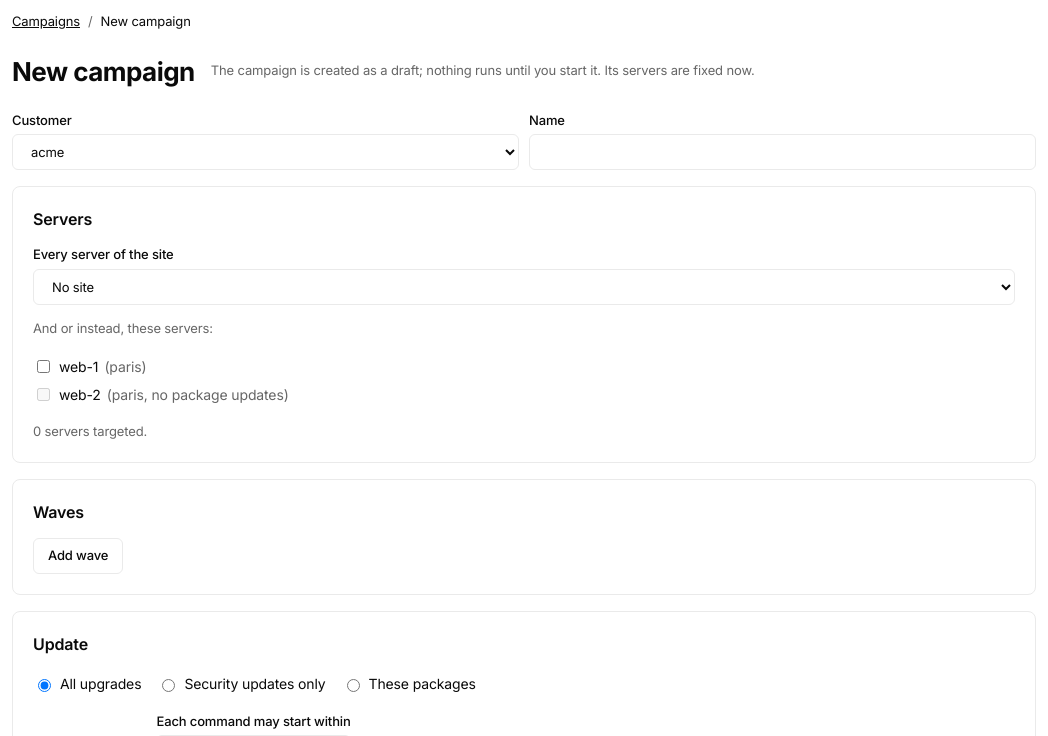
CampaignForm › leaves out hosts that take no package updates, and says so
Select "paris" in the dropdown labelled "Every server of the site" at (524, 286), box 33,268 -> 1015,304
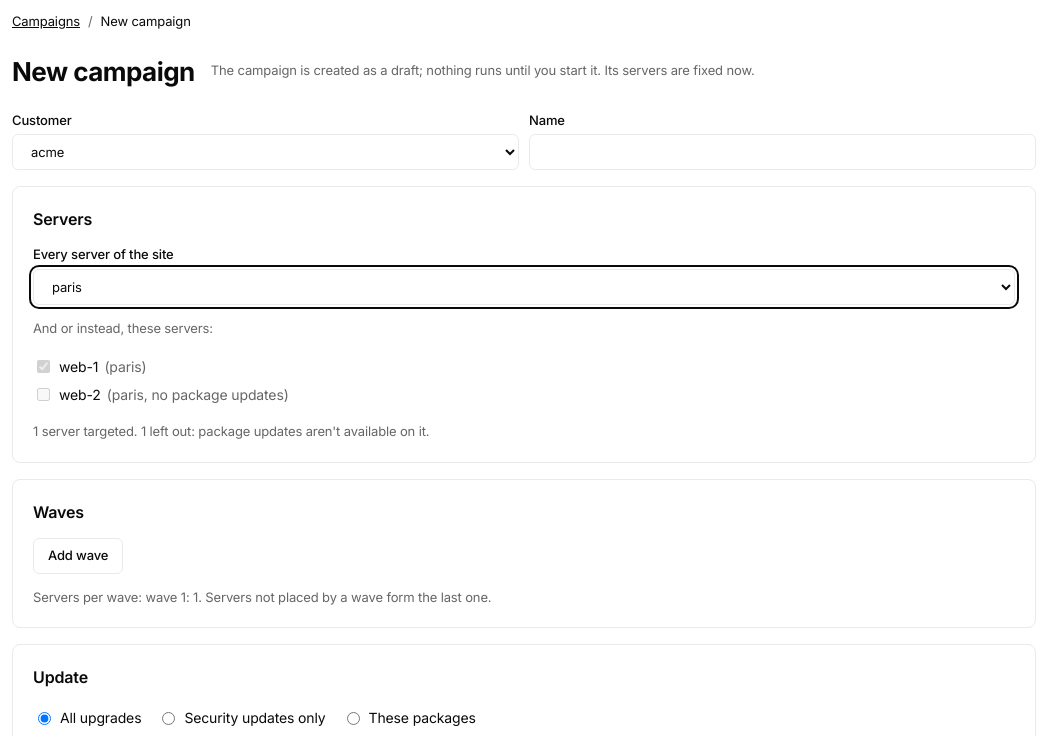
Check: the checkbox labelled "web-2 (paris, no package updates)" is disabled, box 37,388 -> 50,400
Check: the text "1 server targeted. 1 left out: package updates aren't available on it." is shown, box 33,423 -> 429,439
